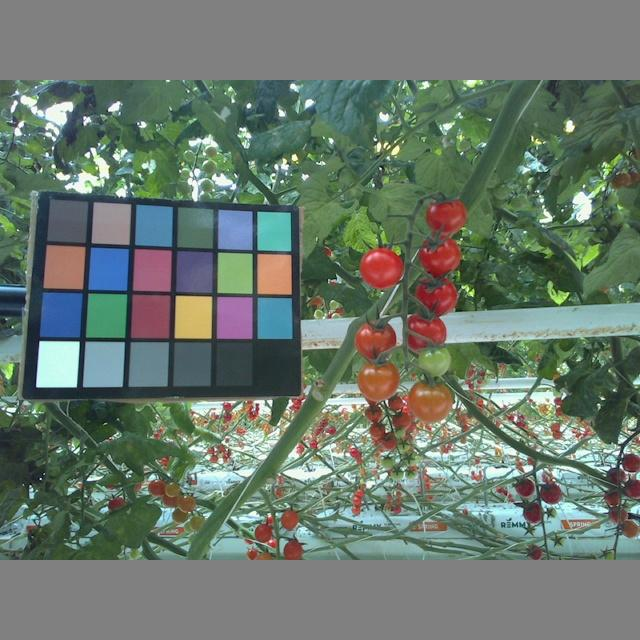green: (411, 342, 450, 381)
pink: (353, 318, 399, 362), (355, 360, 401, 404), (406, 381, 454, 423), (281, 508, 299, 530), (366, 403, 383, 423), (380, 431, 396, 450), (367, 423, 383, 438)
red: (357, 245, 408, 289), (418, 233, 462, 278), (411, 276, 458, 318), (403, 313, 449, 351), (425, 198, 472, 234), (280, 537, 303, 560), (253, 520, 274, 544)
